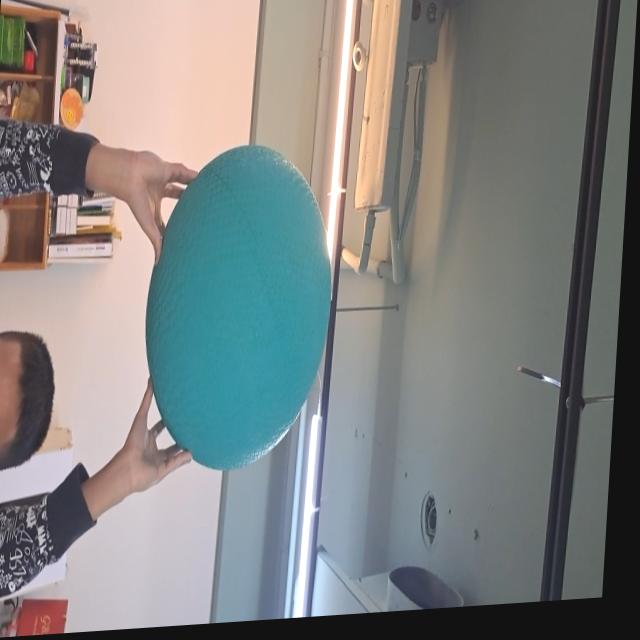ALGAE: (134, 142, 339, 478)
